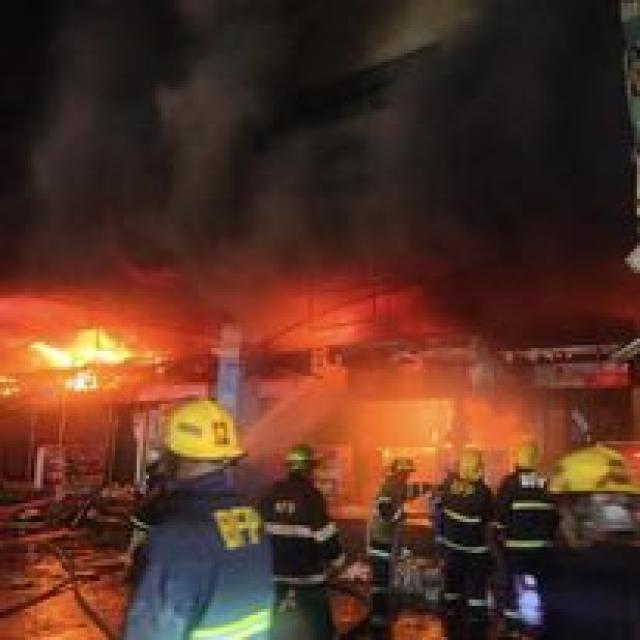Fire: (28, 328, 124, 386)
Smoke: (15, 4, 640, 286)
